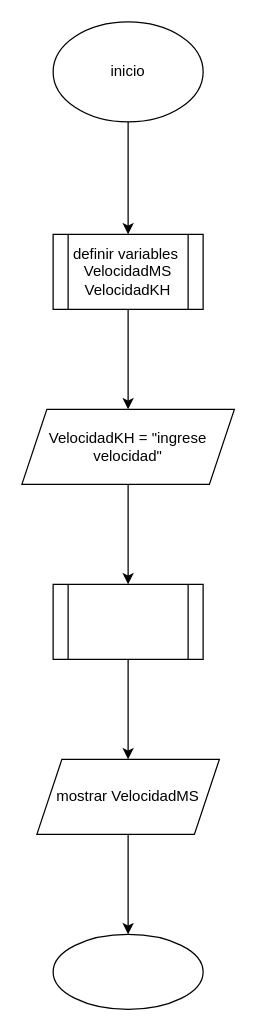
The diagram is 256 pixels wide and 1031 high, and some of its shapes have lost their labels. Here are the shapes that lost their labels. From the top down, the centre of each, then its label:
At (x=127, y=621): "VelocidadMs = velocidadKH * 10/3.6".
At (x=127, y=971): "fin".
